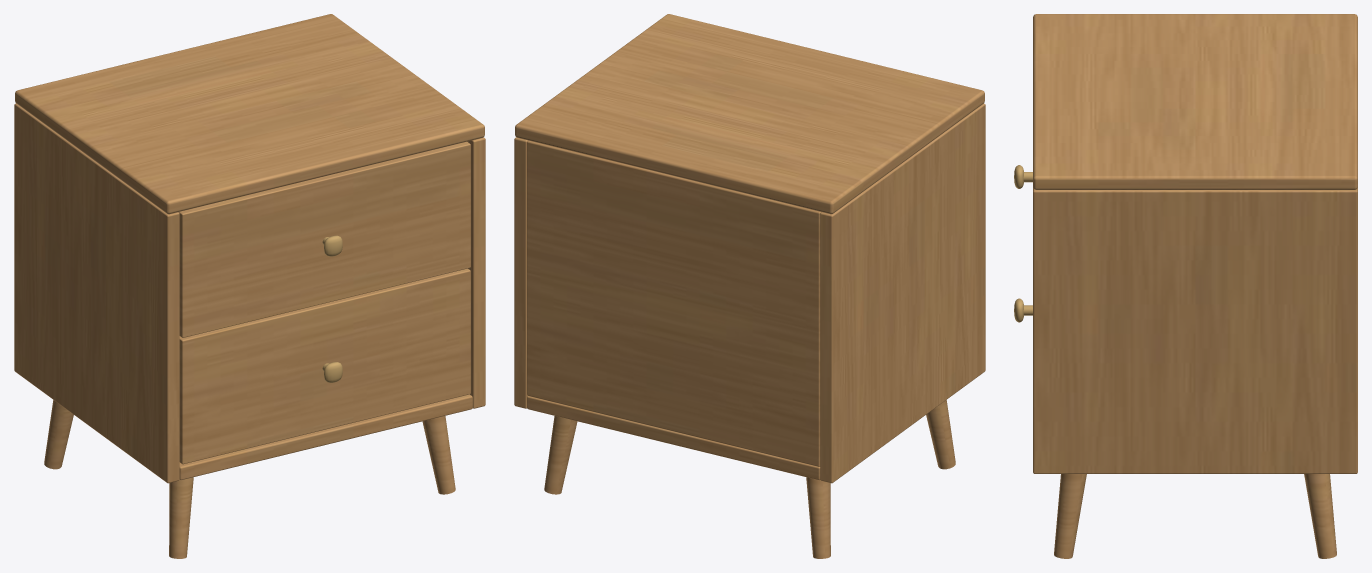
File: nightstand.glb
3 views of the same model, side by side, from view 1: azimuth 30°, elevation 25°; view 2: azimuth 150°, elevation 25°; view 3: azimuth 270°, elevation 25° (orthographic). The views are drawn at different scales.
Parts seen in each view (by area): view 1: nightstand_drawers, nightstand_carcass, nightstand_top, nightstand_legs, nightstand_knobs; view 2: nightstand_carcass, nightstand_top, nightstand_legs; view 3: nightstand_carcass, nightstand_top, nightstand_legs, nightstand_knobs.
Boxes of the visible parts, x1=… form: nightstand_drawers: x1=178, y1=141, x2=470, y2=464; nightstand_carcass: x1=14, y1=103, x2=485, y2=483; nightstand_top: x1=15, y1=14, x2=484, y2=214; nightstand_legs: x1=44, y1=400, x2=455, y2=558; nightstand_knobs: x1=322, y1=235, x2=342, y2=382; nightstand_carcass: x1=514, y1=103, x2=985, y2=483; nightstand_top: x1=515, y1=14, x2=984, y2=214; nightstand_legs: x1=544, y1=400, x2=955, y2=558; nightstand_carcass: x1=1033, y1=187, x2=1357, y2=473; nightstand_top: x1=1033, y1=14, x2=1357, y2=189; nightstand_legs: x1=1054, y1=474, x2=1336, y2=558; nightstand_knobs: x1=1014, y1=165, x2=1032, y2=322.
Size of the model in its own units: 0.45 by 0.5019 by 0.398.
4 materials, 2 textured.
